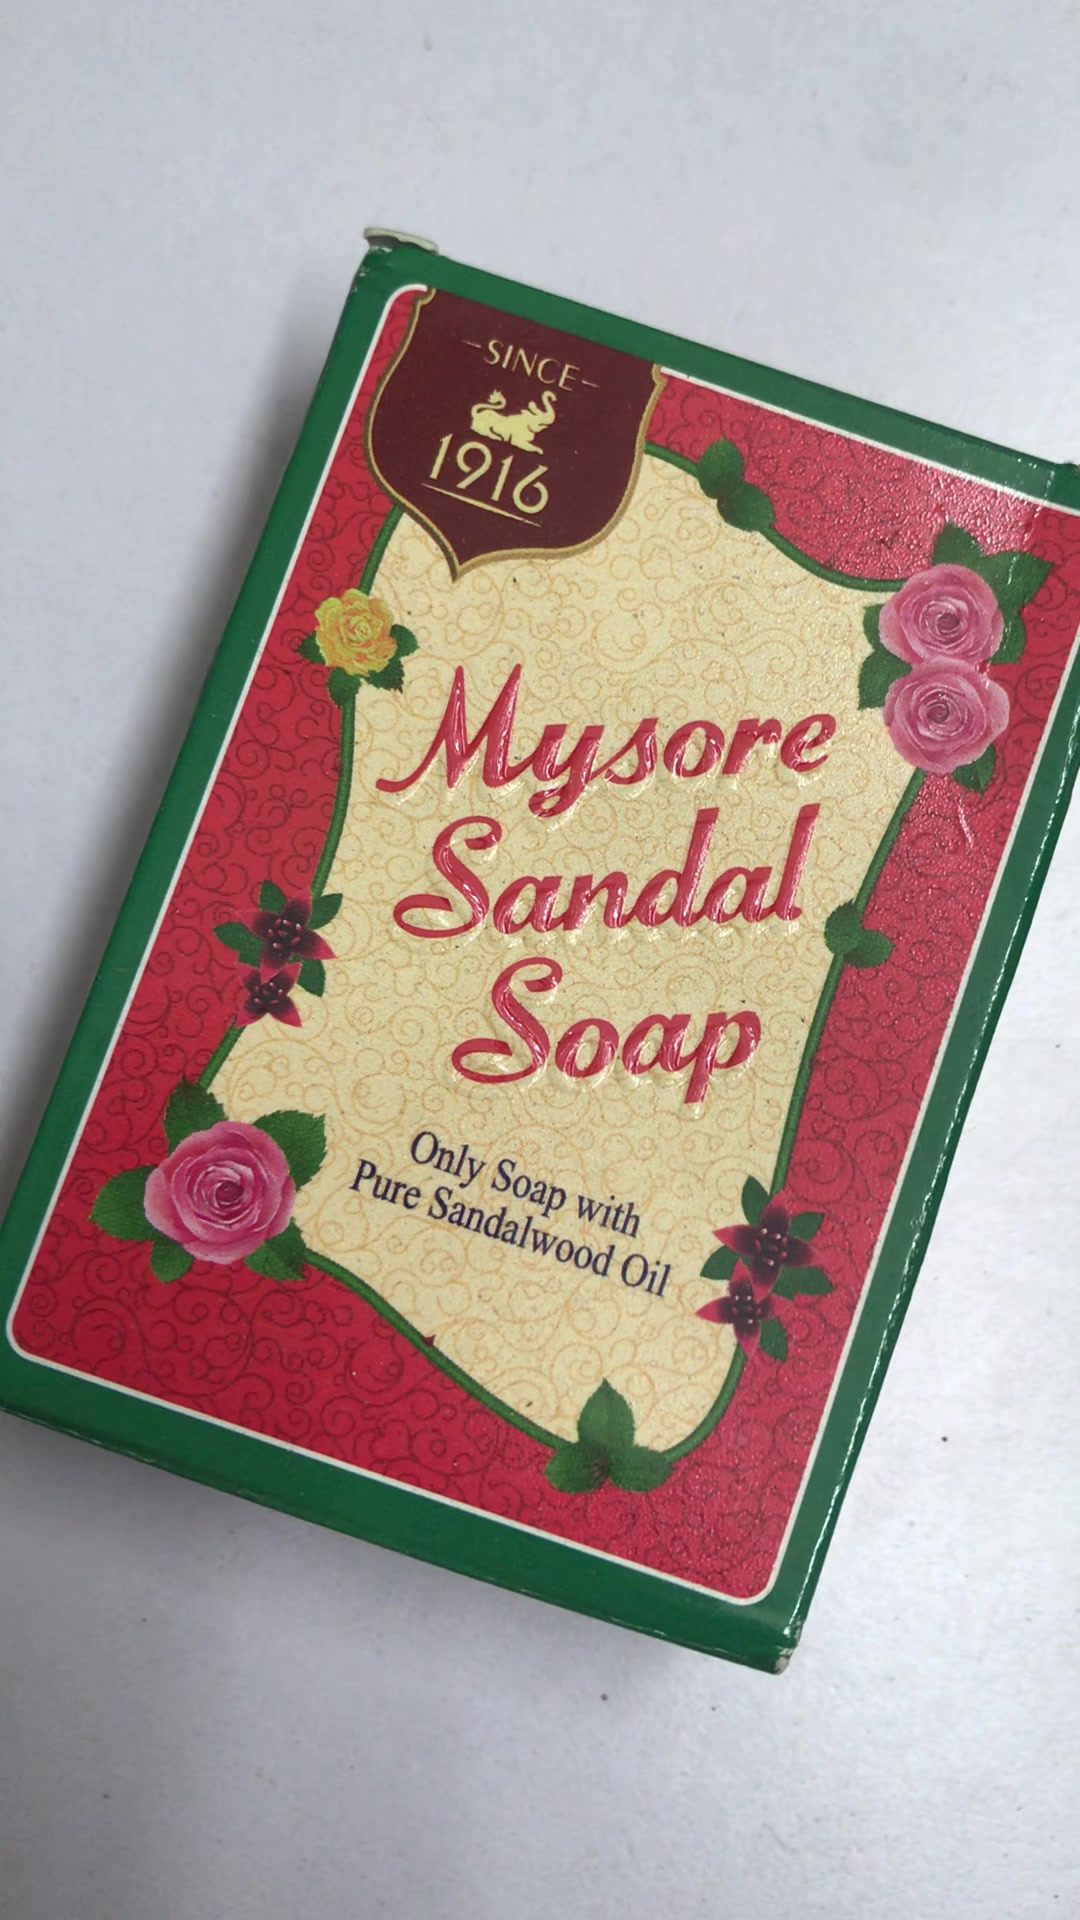mysore sandal soap: (1, 237, 1069, 1671)
